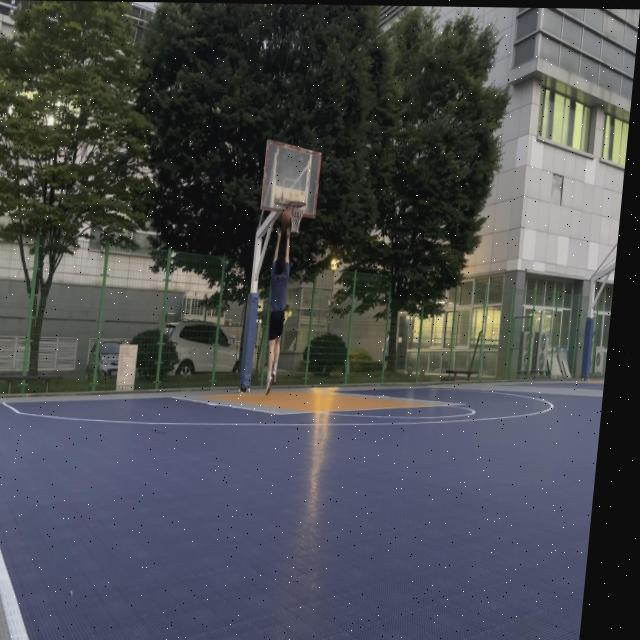basketball: (280, 208, 292, 227)
hoop: (285, 200, 307, 233)
